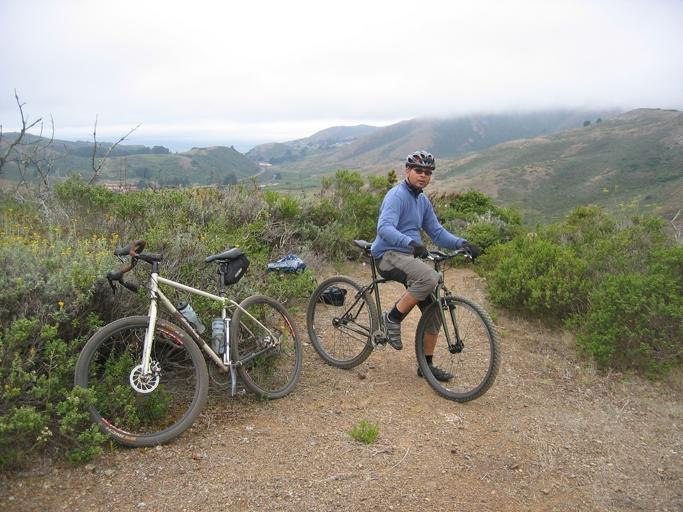non-vehicle: (72, 239, 302, 447), (306, 239, 501, 402)
